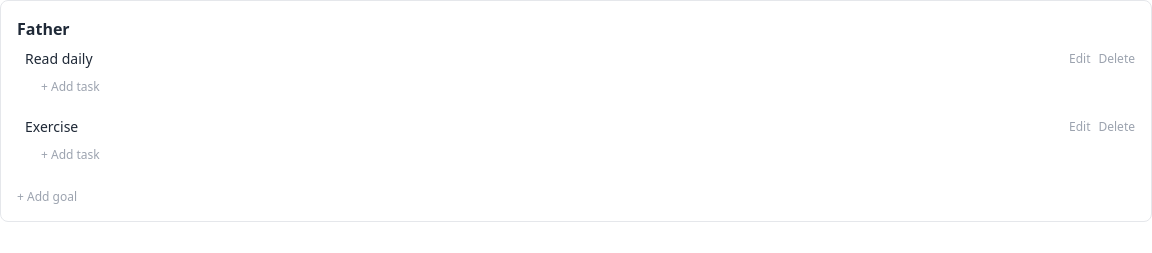
Test case: WeekRoleCard › clicking "+ Add goal" shows an input
Click the button "+ Add goal" at x=47, y=197, box [17,189,77,205]
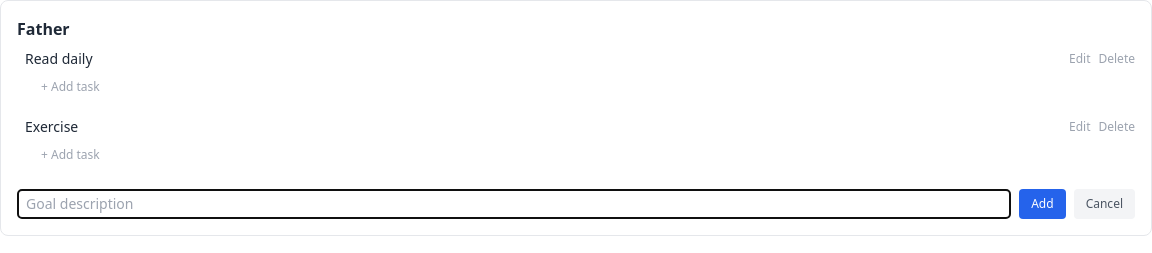
Expected: the field with placeholder "Goal description" is shown, [17,189,1011,219]
